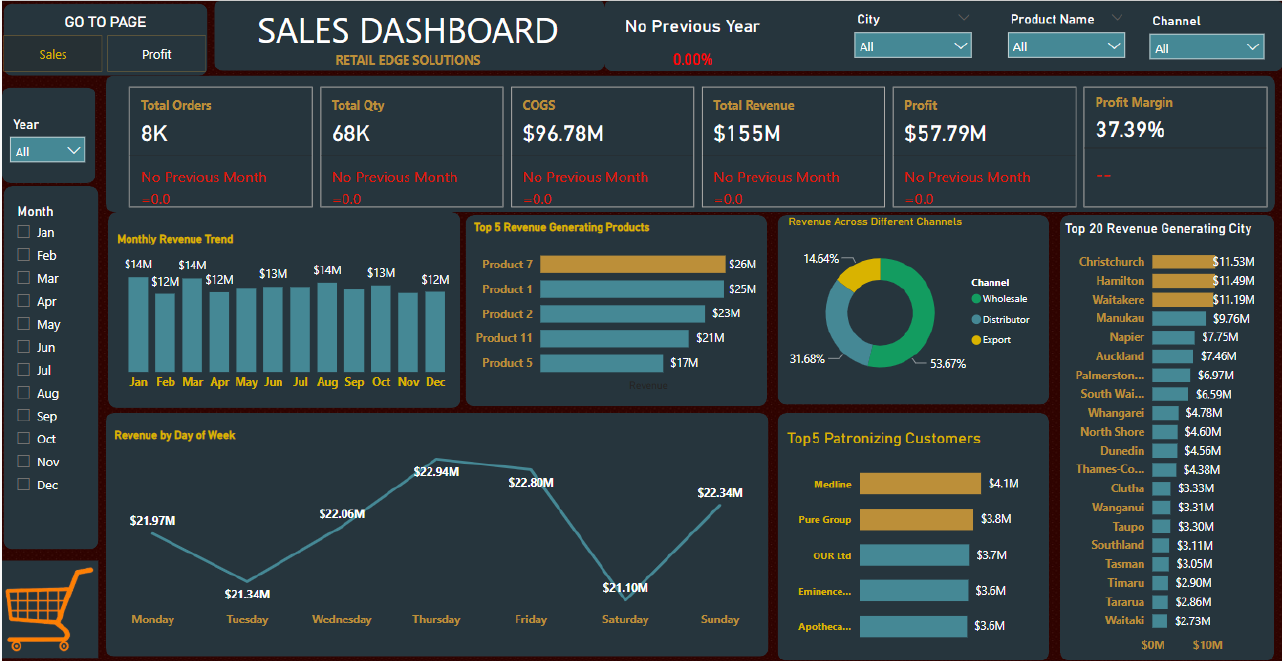

What the dashboard file says about the page in this screenshot:
{"tool":"powerbi","page":{"name":"Sales","canvas":[1400,720],"ordinal":0},"visuals":[{"type":"shape","box":[1.7,0,271.6,86.1],"z":0},{"type":"shape","box":[700.6,0,698.9,86.1],"z":1000},{"type":"shape","box":[281.5,5,409.1,81.2],"z":2000},{"type":"shape","box":[3.3,92.7,1396.1,139.1],"z":3000},{"type":"shape","box":[0,231.9,139.1,488.6],"z":4000},{"type":"shape","box":[520,236.8,351.1,240.1],"z":5000},{"type":"shape","box":[144.1,231.9,362.7,240.1],"z":6000},{"type":"shape","box":[884.4,231.9,256.7,240.1],"z":7000},{"type":"shape","box":[1156,231.9,243.5,488.6],"z":8000},{"type":"shape","box":[816.5,486.9,324.6,233.5],"z":9000},{"type":"shape","box":[144.1,486.9,665.8,233.5],"z":10000},{"type":"cardVisual","fields":{"Data":["Calculations.Total Orders","Calculations.Qty Ordered","Calculations.Revenue","Calculations.COGS","Calculations.Profit","Calculations.Profit Margin"]},"box":[3.3,86.1,1396.1,145.7],"z":11000},{"type":"slicer","fields":{"Values":["Dim_Calender.Year"]},"box":[702.2,5,168.9,76.2],"z":12000},{"type":"slicer","fields":{"Values":["Dim_Calender.Month Name"]},"box":[0,235.2,132.5,485.3],"z":13000},{"type":"clusteredColumnChart","title":"Monthly Revenue Trend","fields":{"Y":["Calculations.Revenue"],"Category":["Dim_Calender.Month Name"]},"box":[147.4,236.8,359.4,235.2],"z":14000},{"type":"clusteredBarChart","title":"Top 5 Renvenue Generating Product","fields":{"Category":["Dim_Product.Product Name"],"Y":["Calculations.Revenue"]},"box":[520,236.8,351.1,235.2],"z":15000},{"type":"donutChart","title":"Revenue Across Different  Channel","fields":{"Y":["Calculations.Revenue"],"Category":["Fact_Order.Channel"]},"box":[884.4,236.8,256.7,236.8],"z":16000},{"type":"barChart","title":"Top 20 Revenue Generating City","fields":{"Category":["Dim_Region.City"],"Y":["Calculations.Revenue"]},"box":[1156,231.9,243.5,488.6],"z":17000},{"type":"lineChart","title":"Revenue by Day of the Week","fields":{"Category":["Dim_Calender.Day of Week"],"Y":["Calculations.Revenue"]},"box":[147.4,486.9,637.6,233.5],"z":18000},{"type":"clusteredBarChart","title":"Top 5 Purchasing Customers","fields":{"Category":["Dim_Customer.Customer Names"],"Y":["Calculations.Revenue"]},"box":[816.5,486.9,324.6,233.5],"z":19000},{"type":"textbox","box":[281.5,0,409.1,81.2],"z":20000},{"type":"pageNavigator","title":"GO TO PAGE","box":[3.3,5,268.3,76.2],"z":21000},{"type":"slicer","fields":{"Values":["Dim_Region.City"]},"box":[871.1,3.3,168.9,79.5],"z":22000},{"type":"slicer","fields":{"Values":["Dim_Product.Product Name"]},"box":[1035.1,5,168.9,77.8],"z":23000},{"type":"slicer","fields":{"Values":["Fact_Order.Channel"]},"box":[1217.3,5,168.9,77.8],"z":24000}]}

Visuals, with their boxes in screenshot pixels (x1, y1, x2, y2), scaled from the page's 1400x720 canvas onto the 1282x661 screenshot:
shape: Rect(2, 0, 250, 79)
shape: Rect(642, 0, 1281, 79)
shape: Rect(258, 5, 632, 79)
shape: Rect(3, 85, 1281, 213)
shape: Rect(0, 213, 127, 660)
shape: Rect(476, 217, 798, 438)
shape: Rect(132, 213, 464, 433)
shape: Rect(810, 213, 1045, 433)
shape: Rect(1059, 213, 1281, 660)
shape: Rect(748, 447, 1045, 660)
shape: Rect(132, 447, 742, 660)
cardVisual - Calculations.Total Orders x Calculations.Qty Ordered: Rect(3, 79, 1281, 213)
slicer - Dim_Calender.Year: Rect(643, 5, 798, 75)
slicer - Dim_Calender.Month Name: Rect(0, 216, 121, 660)
"Monthly Revenue Trend" clusteredColumnChart: Rect(135, 217, 464, 433)
"Top 5 Renvenue Generating Product" clusteredBarChart: Rect(476, 217, 798, 433)
"Revenue Across Different  Channel" donutChart: Rect(810, 217, 1045, 435)
"Top 20 Revenue Generating City" barChart: Rect(1059, 213, 1281, 660)
"Revenue by Day of the Week" lineChart: Rect(135, 447, 719, 660)
"Top 5 Purchasing Customers" clusteredBarChart: Rect(748, 447, 1045, 660)
textbox: Rect(258, 0, 632, 75)
"GO TO PAGE" pageNavigator: Rect(3, 5, 249, 75)
slicer - Dim_Region.City: Rect(798, 3, 952, 76)
slicer - Dim_Product.Product Name: Rect(948, 5, 1103, 76)
slicer - Fact_Order.Channel: Rect(1115, 5, 1269, 76)
